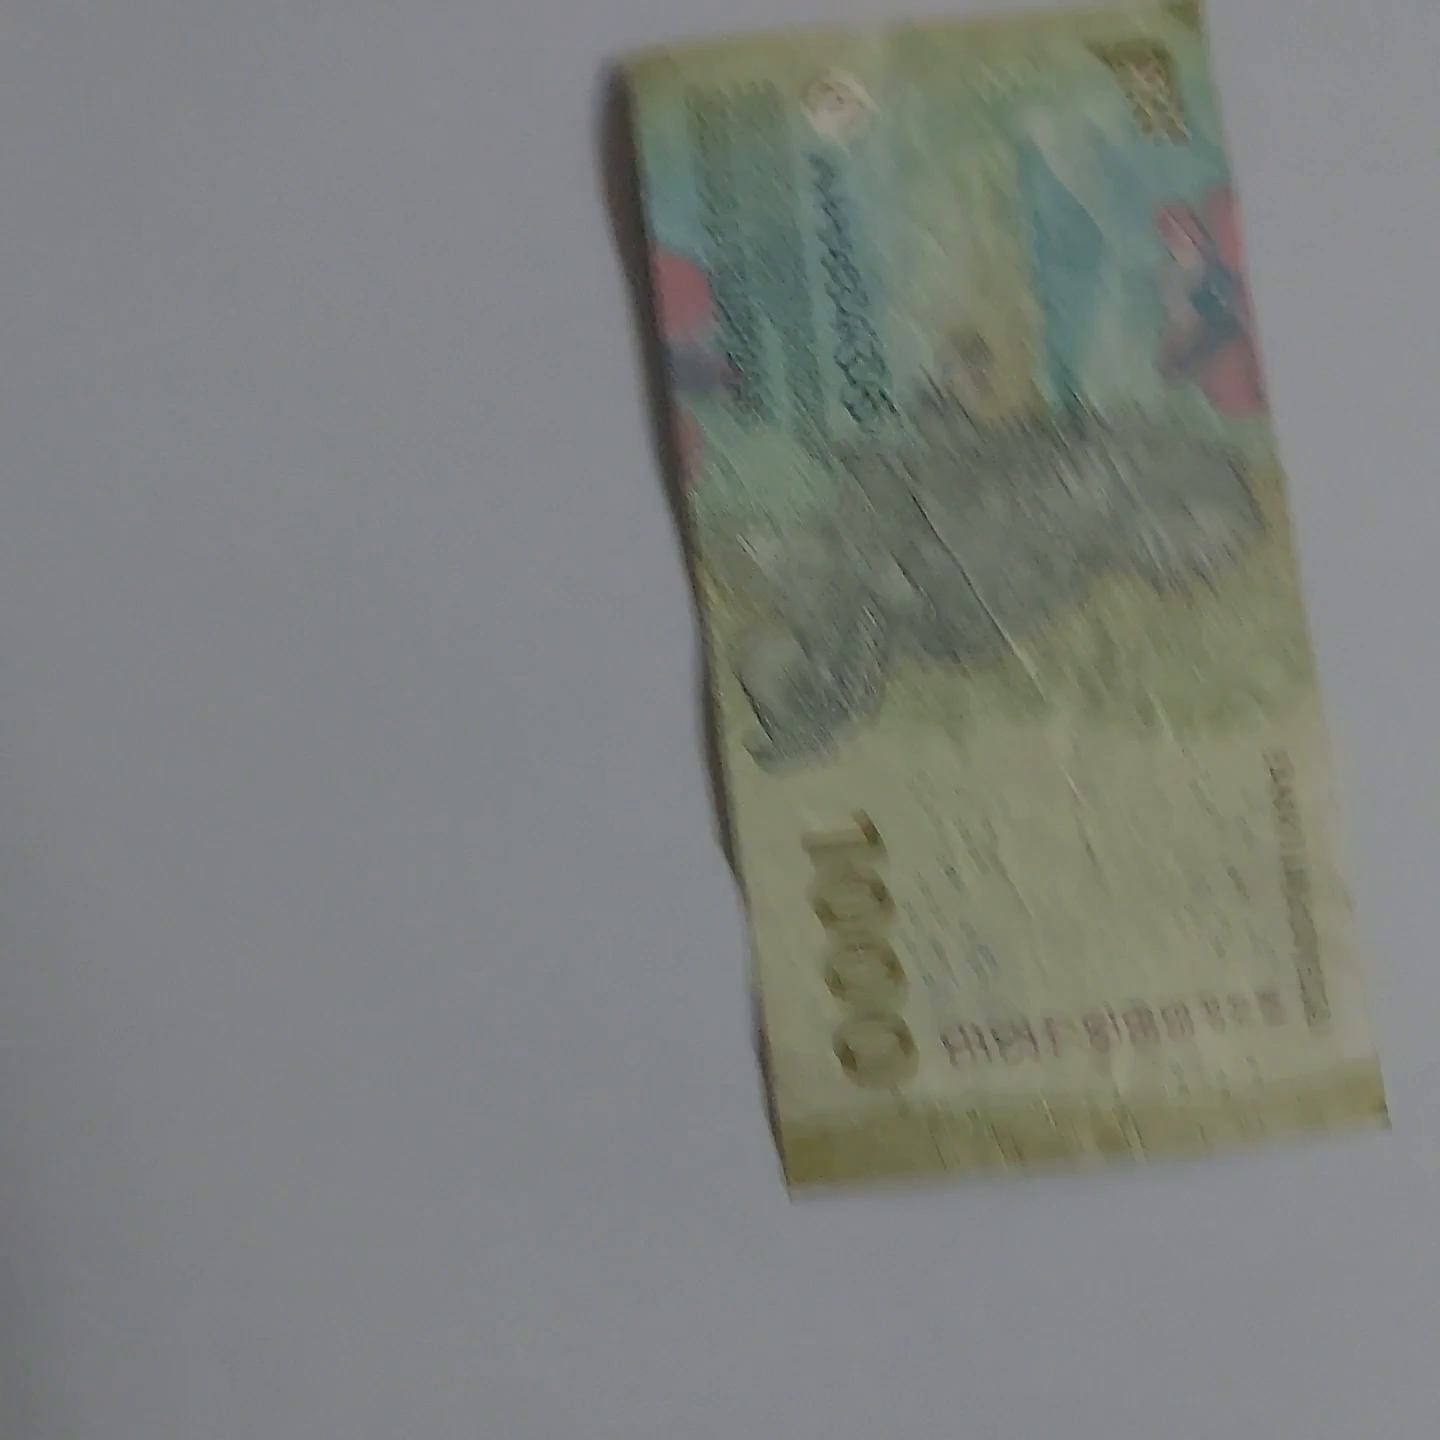1k: (582, 0, 1391, 1145)
